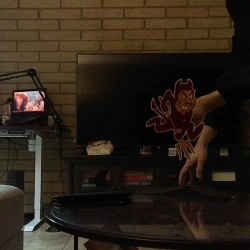sparky: (145, 77, 204, 160)
